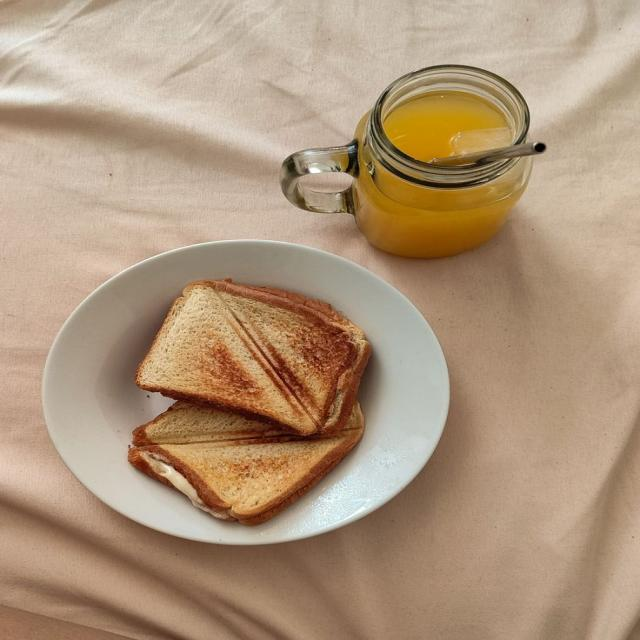toast bread: (136, 279, 370, 436), (128, 401, 363, 525)
